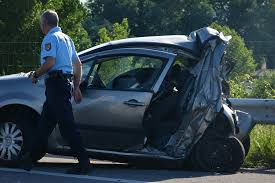acc: (112, 15, 243, 174)
